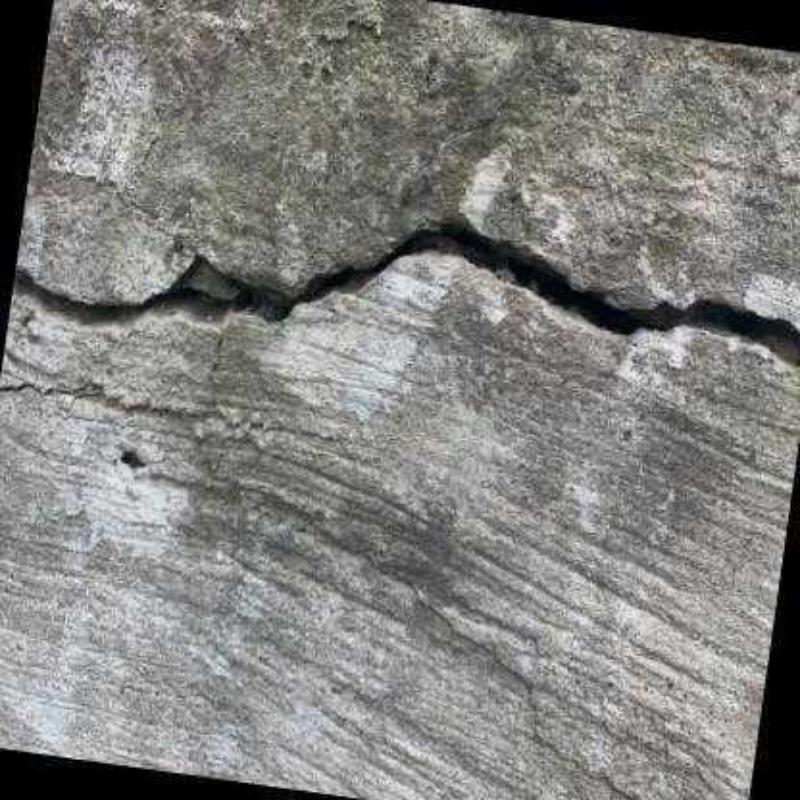pothole: (10, 208, 800, 368)
